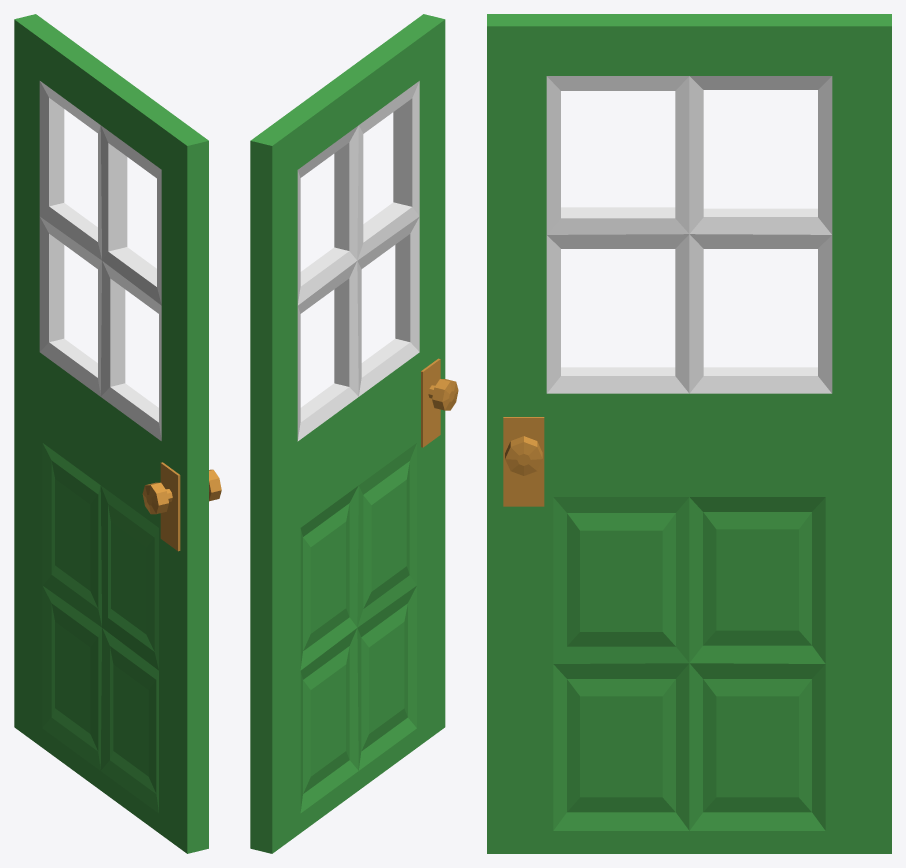
The model's file is cifWk2vViR0.glb.
The picture shows the model from 3 angles, left to right: view 1: azimuth 30°, elevation 25°; view 2: azimuth 150°, elevation 25°; view 3: azimuth 270°, elevation 25°; orthographic projection. The views are drawn at different scales.
Visible parts, largest first — view 1: door_Cube.030; view 2: door_Cube.030; view 3: door_Cube.030.
Boxes of the visible parts, <box> form: door_Cube.030: <box>14,14,221,853</box>; door_Cube.030: <box>250,14,458,853</box>; door_Cube.030: <box>487,14,891,853</box>.
Bounding box in the file's own units: 0.0974 × 1 × 0.4434.
